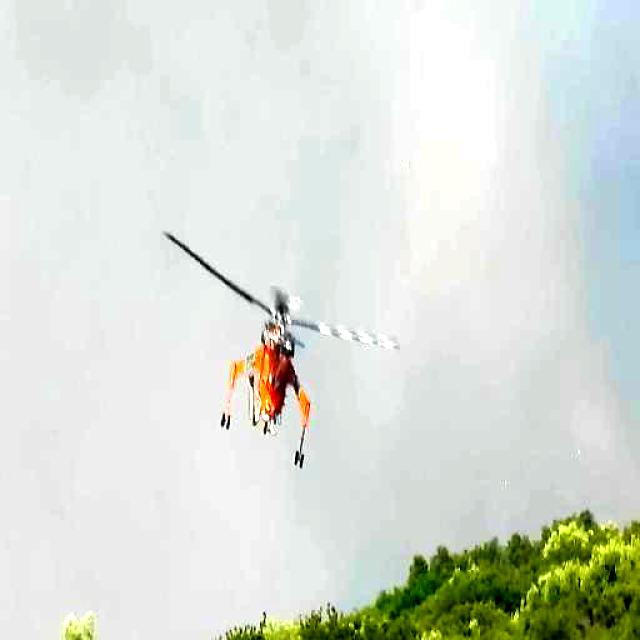drone: (142, 194, 411, 464)
